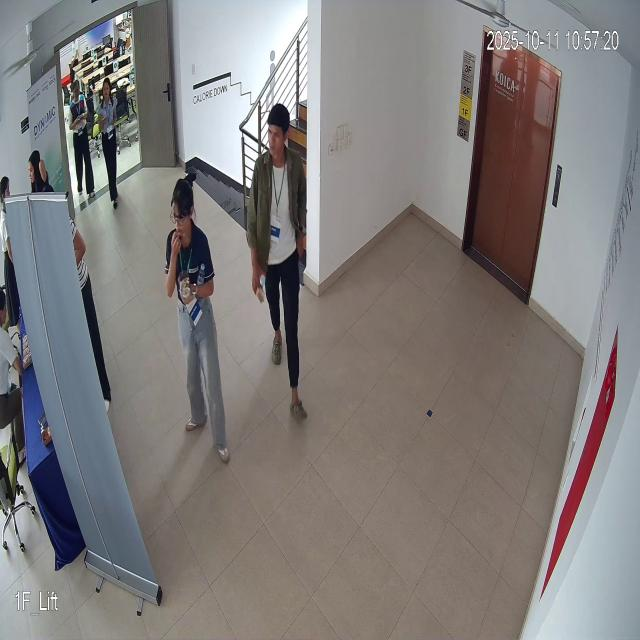face: (166, 173, 202, 251), (260, 93, 292, 167)
